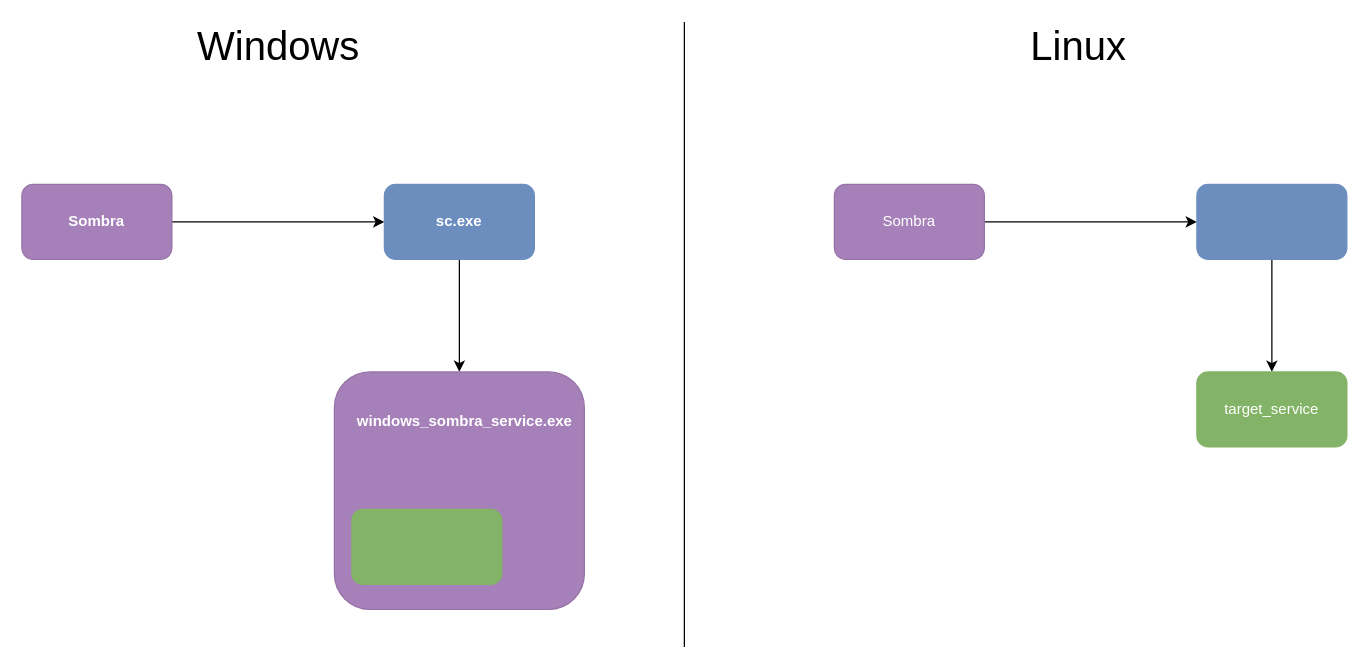
This 1369x670 diagram has some shape labels left out. The shapes that lost their labels are listed below. From the top down, each one's box as (x1, y1, x2, y2) in pixels, then its label:
(1196, 183, 1347, 259): systemd
(351, 508, 502, 584): target_service.exe
